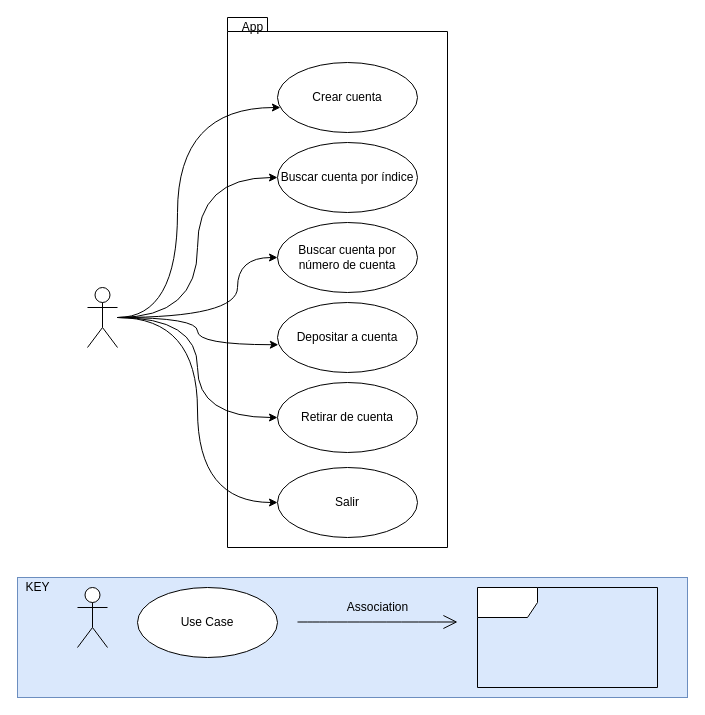
Some shapes in this 705 by 715 pixel diagram are drawn without their labels. Here are the shapes that lost their labels. From the top down, the box of each, then its label:
(86, 286, 118, 348): Usuario
(76, 586, 108, 648): Actor
(476, 586, 658, 688): System
